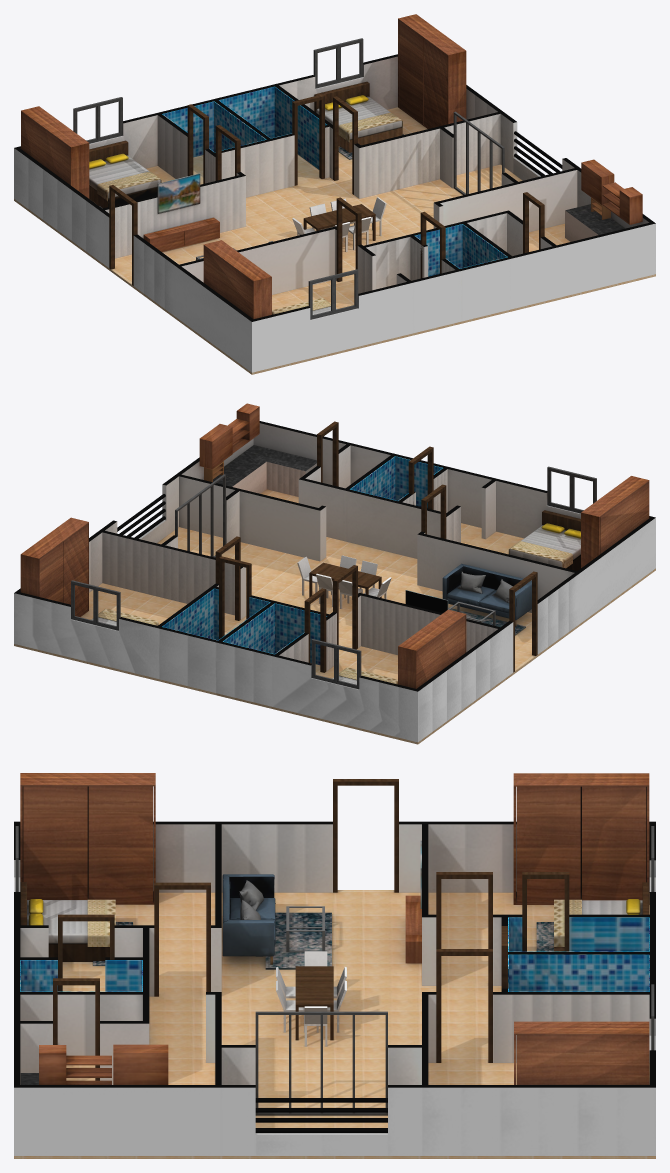
The model's file is praneeth_1bhk.glb.
3 renders of one model, top to bottom at view 1: azimuth 30°, elevation 25°; view 2: azimuth 150°, elevation 25°; view 3: azimuth 270°, elevation 25°, orthographic. The views are drawn at different scales.
Visible parts, largest first — view 1: Object002_Object002_mtl_0, Object003_Object003_mtl_0, Object001_Object001_mtl_0; view 2: Object002_Object002_mtl_0, Object003_Object003_mtl_0, Object001_Object001_mtl_0; view 3: Object002_Object002_mtl_0, Object003_Object003_mtl_0, Object001_Object001_mtl_0.
Boxes of the visible parts, <box> form: Object002_Object002_mtl_0: <box>14,54,655,372</box>; Object003_Object003_mtl_0: <box>14,86,642,374</box>; Object001_Object001_mtl_0: <box>21,14,655,374</box>; Object002_Object002_mtl_0: <box>14,421,655,742</box>; Object003_Object003_mtl_0: <box>14,403,655,744</box>; Object001_Object001_mtl_0: <box>20,466,649,689</box>; Object002_Object002_mtl_0: <box>14,821,655,1155</box>; Object003_Object003_mtl_0: <box>14,779,655,1158</box>; Object001_Object001_mtl_0: <box>15,773,654,1155</box>.
Bounding box in the file's own units: 10.16 × 2.18 × 10.36.
3 materials, 3 textured.
